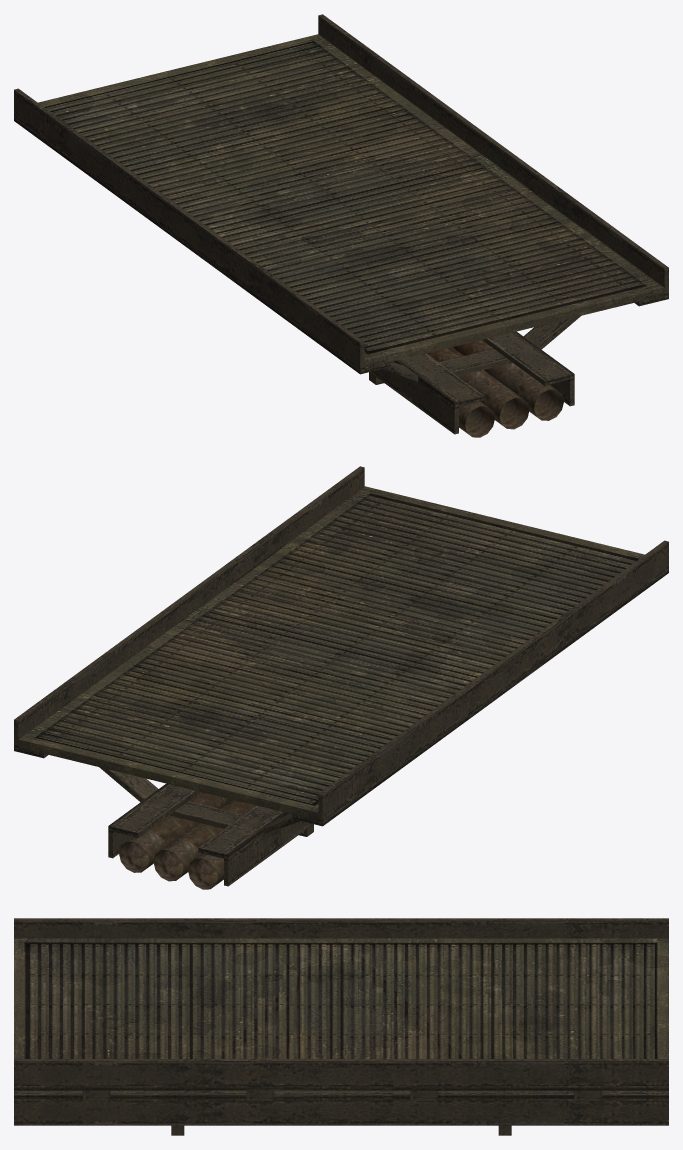
Rendered from platform_bx_2.obj.
The picture shows the model from 3 angles, top to bottom: view 1: azimuth 30°, elevation 25°; view 2: azimuth 150°, elevation 25°; view 3: azimuth 270°, elevation 25°; orthographic projection. The views are drawn at different scales.
Parts seen in each view (by area): view 1: platform_bx_2; view 2: platform_bx_2; view 3: platform_bx_2.
Part boxes in pixels (x1,y1,x2,y2): platform_bx_2: (14, 14, 668, 437); platform_bx_2: (14, 466, 668, 889); platform_bx_2: (14, 918, 668, 1135).
Size of the model in its own units: 2.06 by 0.81 by 4.
